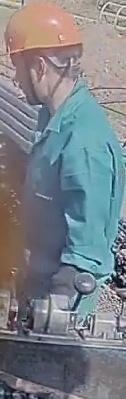helmet: (2, 1, 83, 69)
vest: (13, 93, 122, 292)
